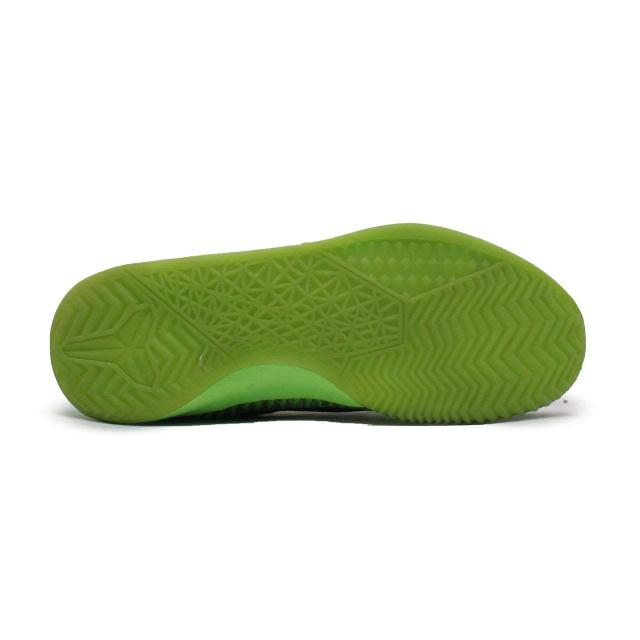outersole: (50, 224, 593, 421)
